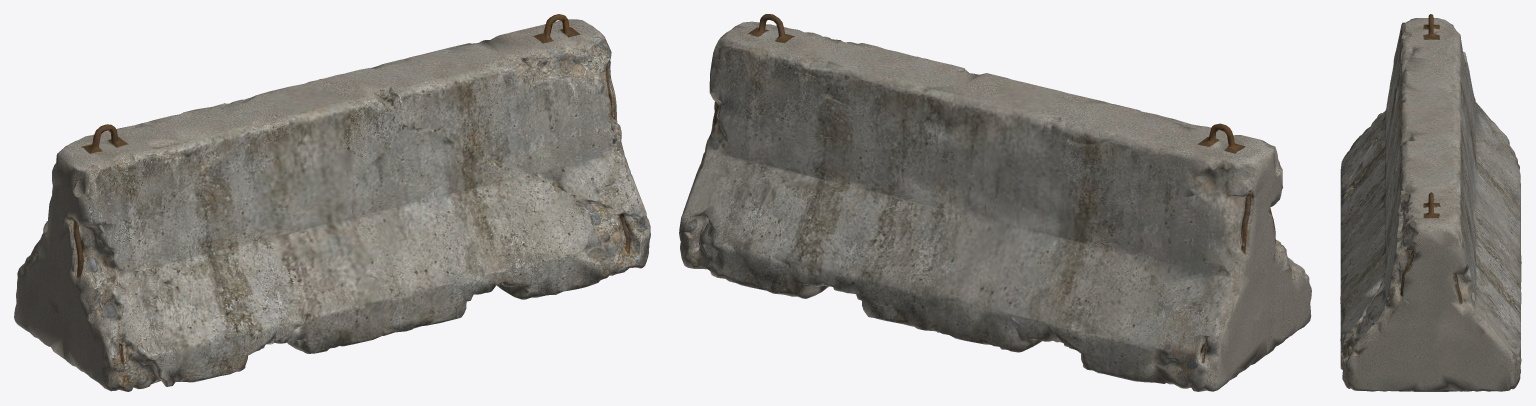
Rendered from concrete_barrier.glb.
3 views of the same model, side by side, from view 1: azimuth 30°, elevation 25°; view 2: azimuth 150°, elevation 25°; view 3: azimuth 270°, elevation 25° (orthographic). The views are drawn at different scales.
Bounding box in the file's own units: 1.9 × 0.7675 × 0.6836.
1 material, 1 textured.
